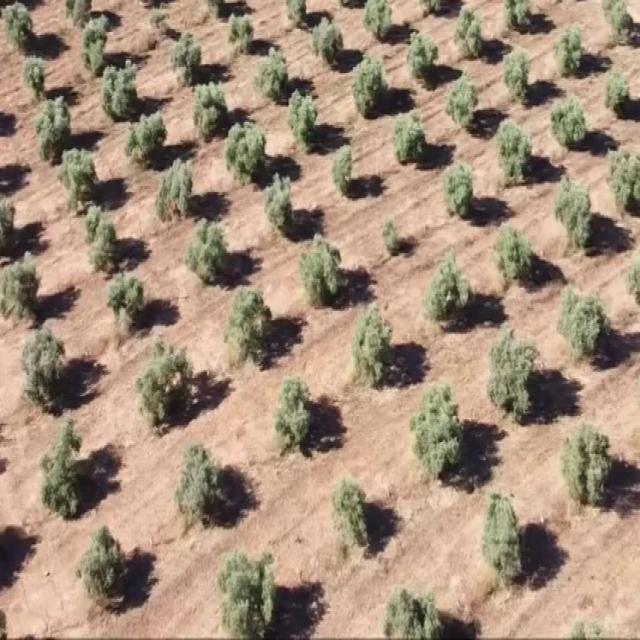trees: (399, 374, 477, 490), (13, 309, 81, 436), (468, 464, 531, 595), (135, 315, 198, 439), (554, 402, 620, 520), (161, 414, 227, 529), (69, 514, 134, 627), (214, 538, 285, 640), (31, 410, 88, 526), (485, 321, 545, 422), (323, 453, 374, 571), (349, 289, 402, 393), (551, 272, 608, 368), (222, 279, 277, 372), (0, 235, 55, 327), (420, 246, 475, 337), (433, 144, 487, 236), (486, 207, 539, 300), (268, 365, 319, 460), (296, 225, 346, 318), (603, 122, 640, 244), (549, 166, 594, 264), (491, 106, 538, 198), (54, 129, 106, 208), (146, 148, 192, 237), (181, 214, 226, 298), (26, 87, 72, 166), (346, 50, 391, 126), (106, 266, 151, 340), (388, 100, 433, 174), (440, 68, 487, 138), (220, 116, 268, 181), (189, 69, 230, 145), (0, 0, 44, 70), (124, 106, 168, 171), (101, 55, 142, 124), (252, 38, 296, 102), (76, 6, 115, 77), (166, 20, 206, 88), (546, 87, 592, 146), (82, 203, 119, 271), (262, 164, 300, 228), (550, 19, 589, 80), (325, 137, 362, 200), (401, 32, 441, 90), (452, 5, 488, 66), (600, 63, 633, 127), (287, 87, 321, 147), (499, 51, 534, 109), (368, 209, 407, 261), (308, 14, 343, 68), (598, 2, 638, 49), (22, 43, 53, 103), (221, 2, 257, 53), (361, 0, 396, 47)
